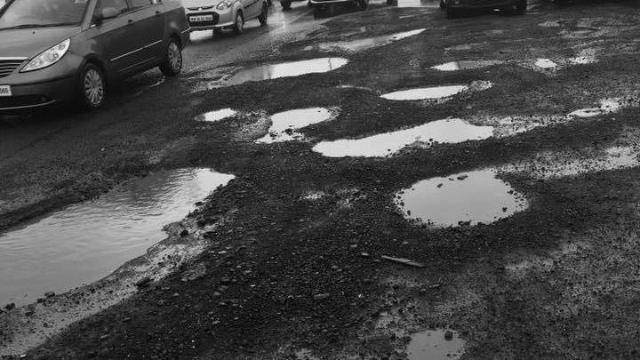Pothole: (0, 169, 256, 316), (378, 166, 564, 240), (296, 115, 508, 163), (370, 308, 498, 360), (207, 54, 359, 92), (289, 19, 433, 54), (256, 96, 346, 150), (378, 80, 482, 102), (424, 52, 512, 77), (189, 98, 241, 127)
